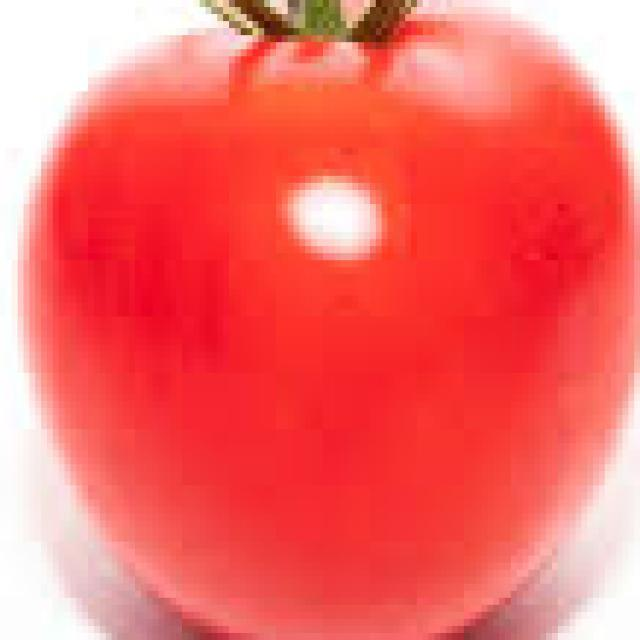Healthy: (37, 5, 639, 640)
